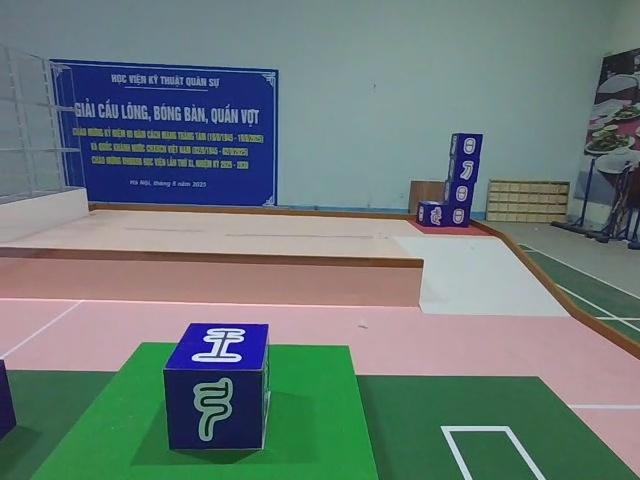R2 Fake Blue: (163, 323, 271, 453), (0, 359, 17, 469)
